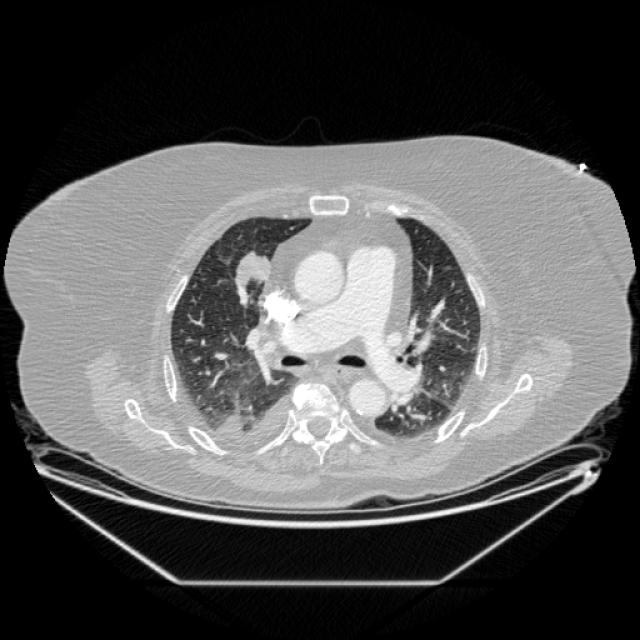nodule: (220, 238, 280, 298)
